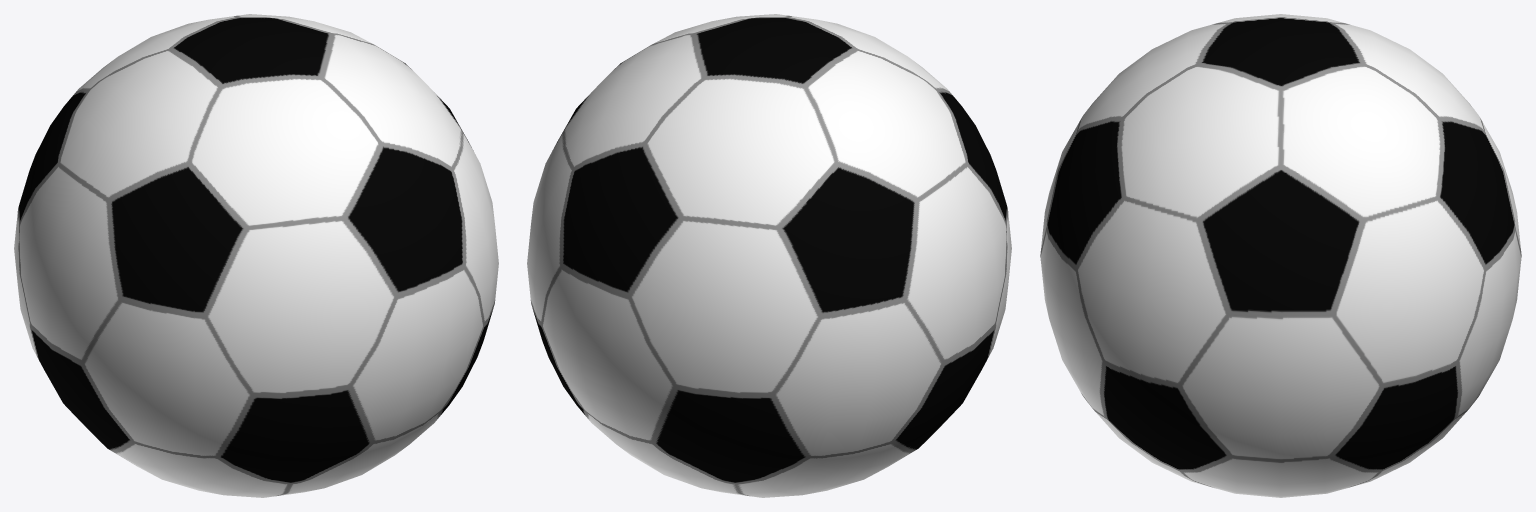
The model's file is SoccerBall.fbx.
3 views of the same model, side by side, from view 1: azimuth 30°, elevation 25°; view 2: azimuth 150°, elevation 25°; view 3: azimuth 270°, elevation 25° (orthographic).
Parts seen in each view (by area): view 1: SoccerBall_C; view 2: SoccerBall_C; view 3: SoccerBall_C.
Boxes of the visible parts, <box> form: SoccerBall_C: <box>14,14,498,497</box>; SoccerBall_C: <box>527,14,1011,497</box>; SoccerBall_C: <box>1040,14,1521,497</box>.
Size of the model in its own units: 170 by 170 by 170.
